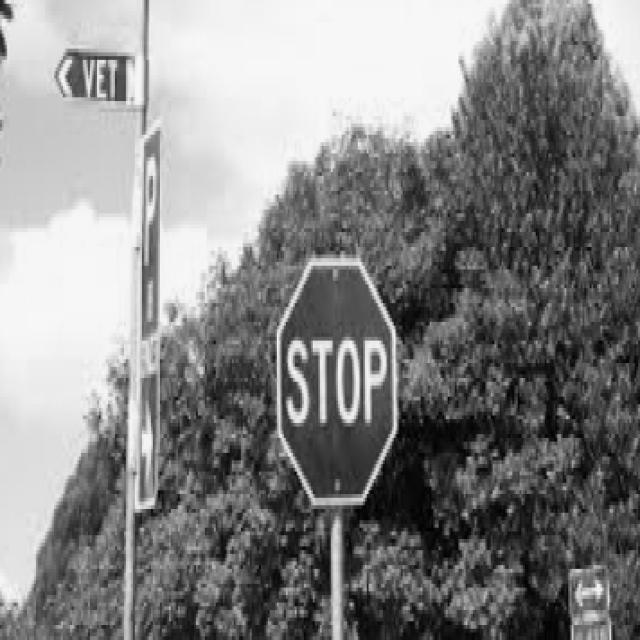Stop-signs: (276, 261, 397, 505)
